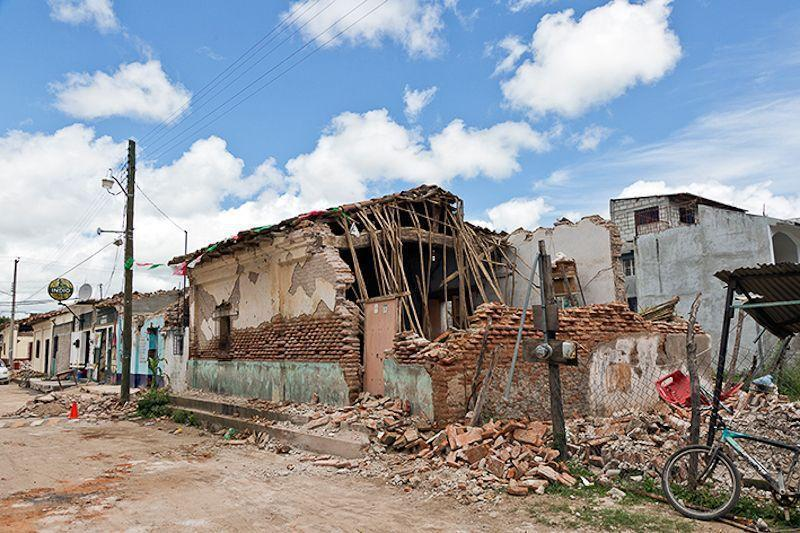destroyed: (170, 198, 702, 448)
